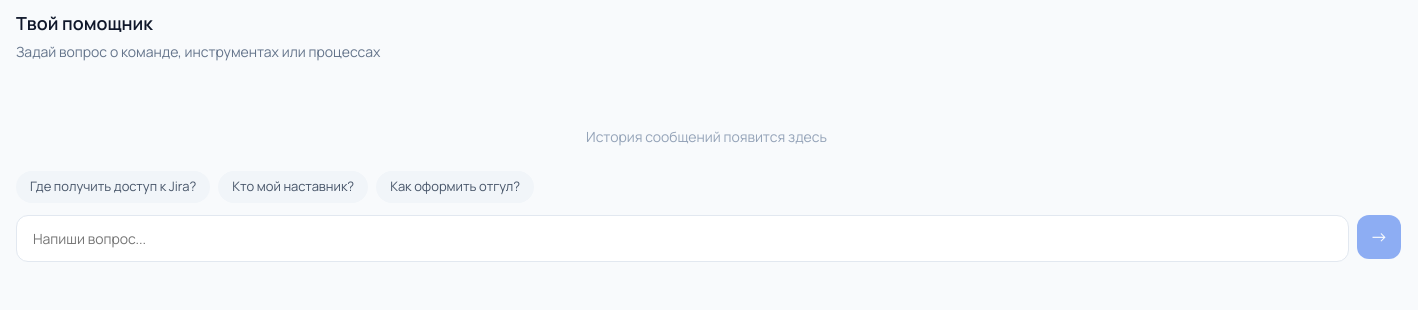
Test case: ChatPanel › по клику на чип отправляет вопрос
Click the button "Кто мой наставник?" at [293, 187], box 218,171 -> 368,202
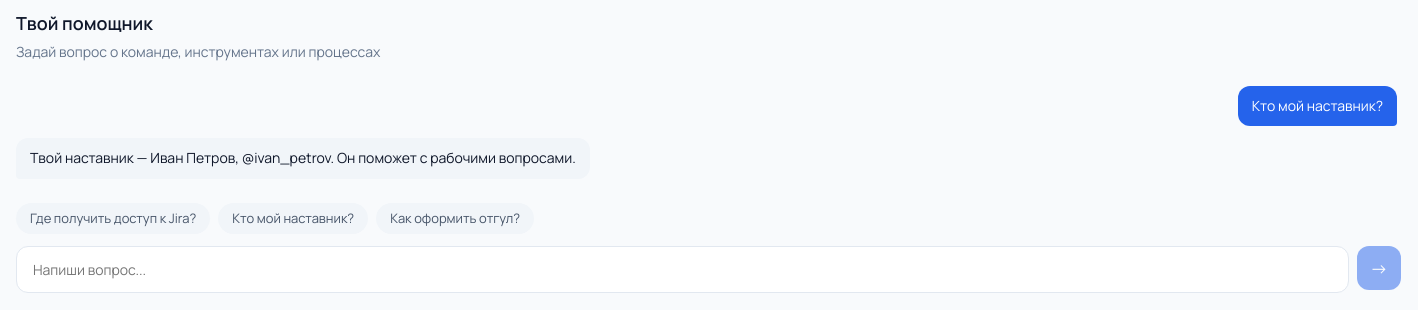
Now the text "Иван Петров" is shown, box 30,148 -> 576,167
